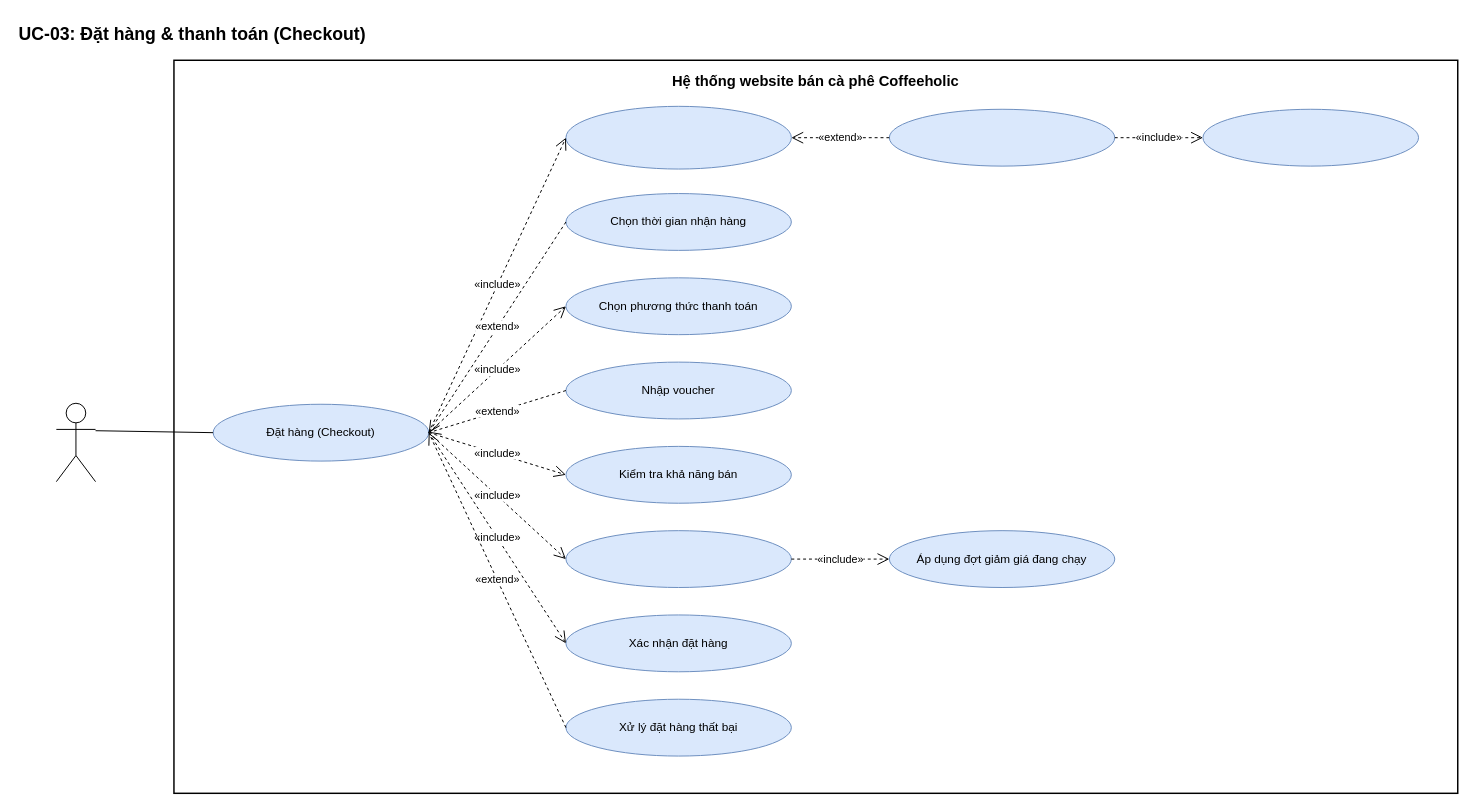
The diagram is 1475 pixels wide and 810 high, and some of its shapes have lost their labels. The shapes that lost their labels are listed below. From the top down, each one's centre as x and y in pixels, then its label:
At point 678,137: "Chọn hình thức nhận hàng (tại bàn / mang về / giao hàng)".
At point 1001,137: "Chọn địa chỉ giao hàng".
At point 1310,137: "Tính phí giao hàng".
At point 75,442: "Khách hàng".
At point 678,559: "Tính tổng tiền thanh toán".
